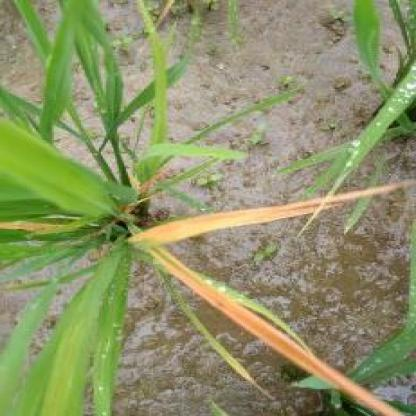Tungro: (152, 250, 404, 416), (125, 191, 399, 250)
